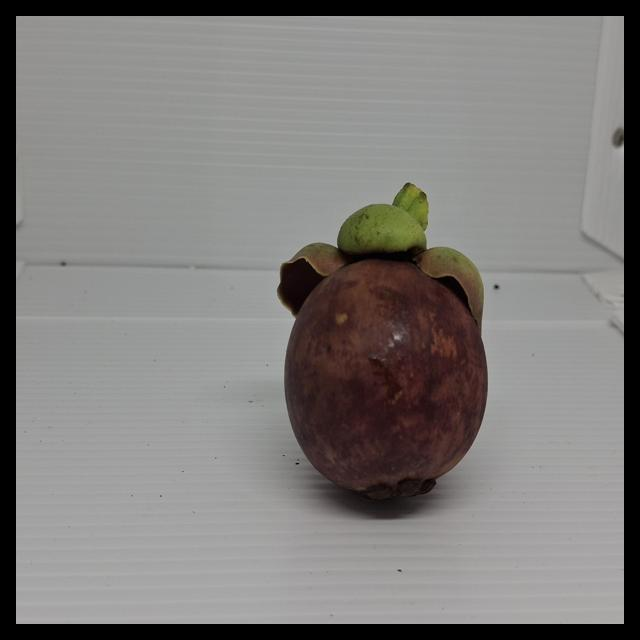mangosteen: (243, 165, 536, 520)
